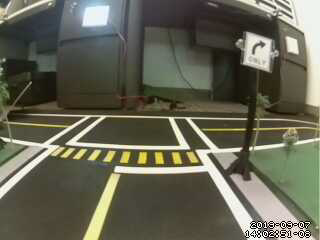Right_only_sign: (240, 28, 273, 76)
